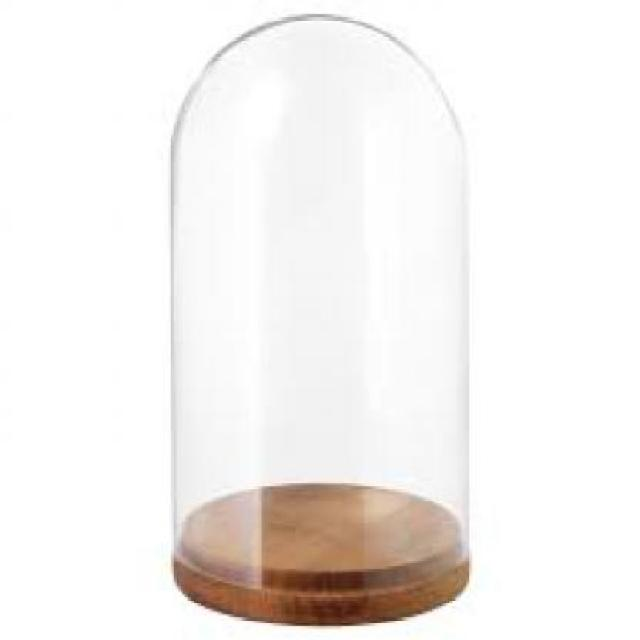kaca: (174, 12, 463, 592)
